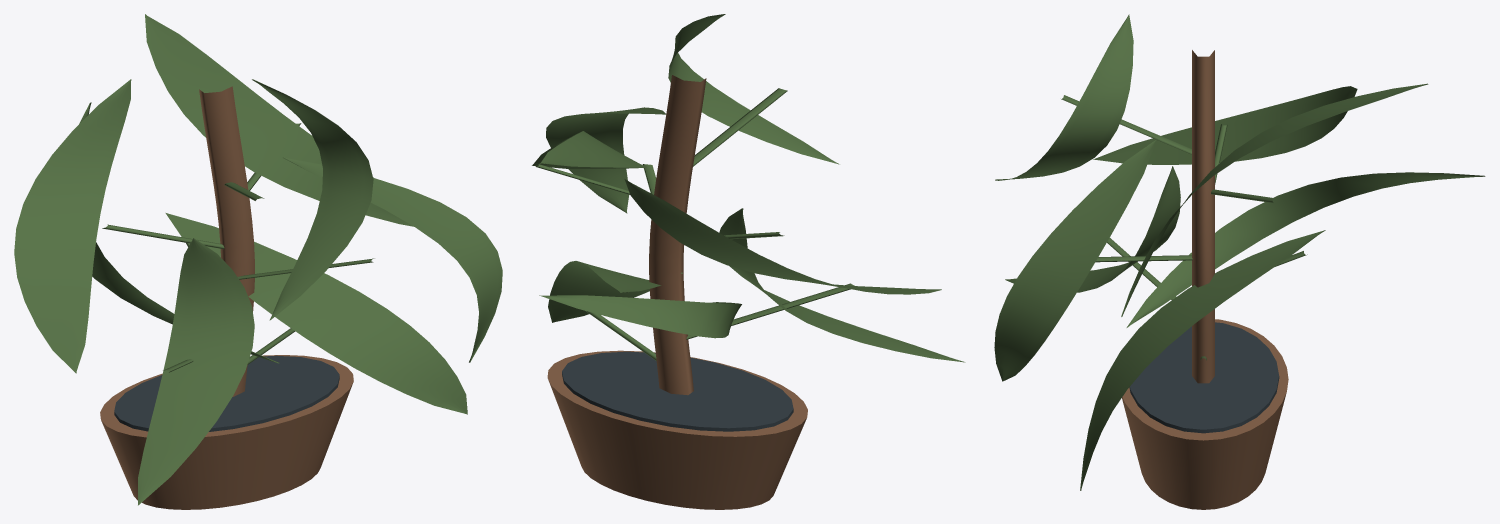
File: plant-14-3.glb
The picture shows the model from 3 angles, left to right: view 1: azimuth 30°, elevation 25°; view 2: azimuth 150°, elevation 25°; view 3: azimuth 270°, elevation 25°; orthographic projection. The views are drawn at different scales.
Visible parts, largest first — view 1: part (×10); view 2: part (×10); view 3: part (×10).
Boxes of the visible parts, bbox=[...] form: part (×10): bbox=[14, 14, 502, 509]; part (×10): bbox=[532, 14, 965, 509]; part (×10): bbox=[994, 14, 1485, 509].
Bounding box in the file's own units: 1 × 1 × 1.
